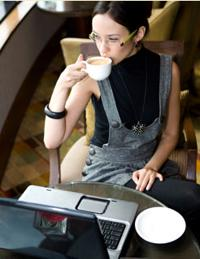person: (41, 2, 200, 241)
